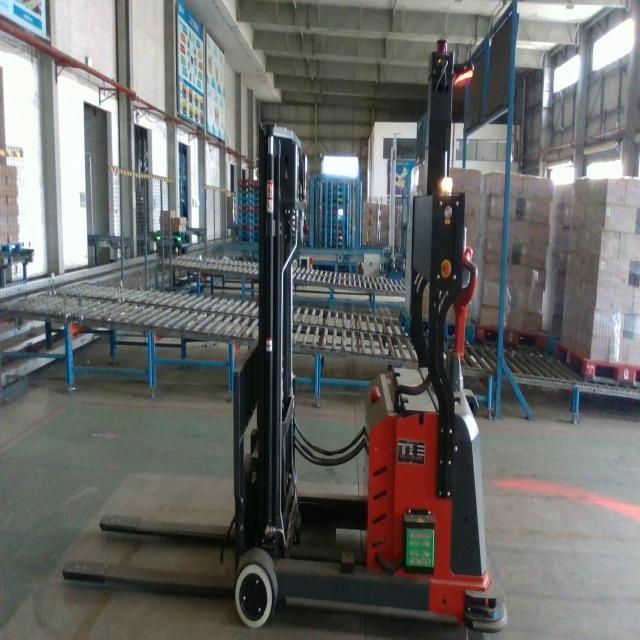forklift: (60, 33, 510, 637)
